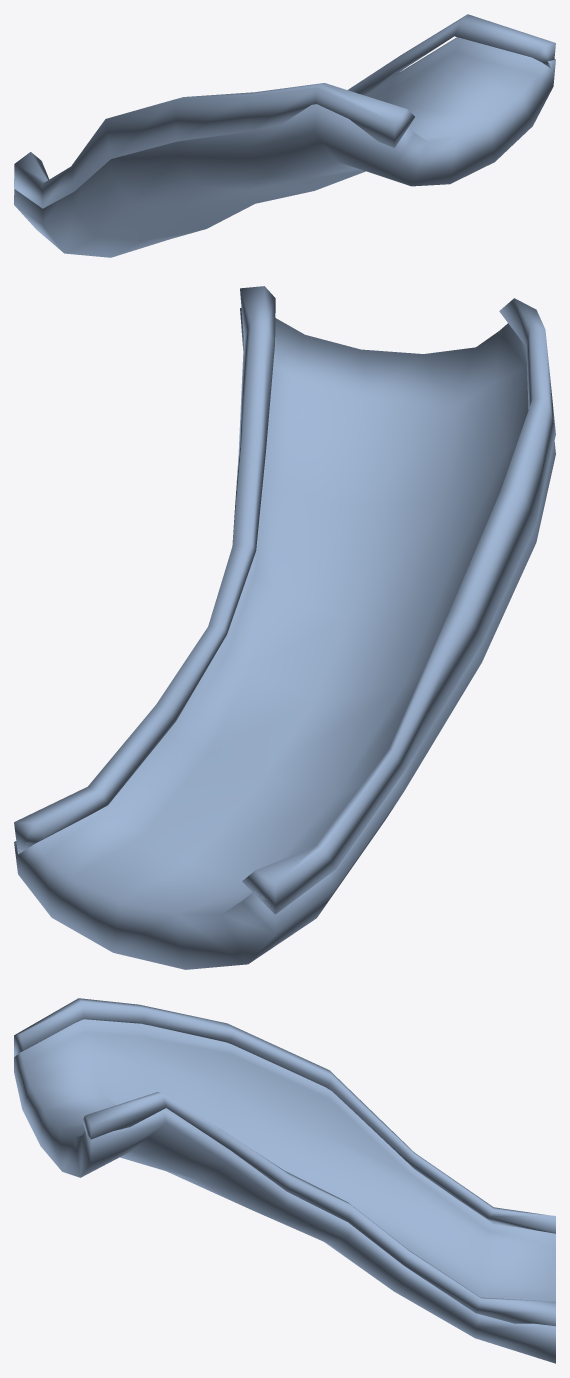
The model's file is junRoadShortSlope10_20.fbx.
3 renders of one model, top to bottom at view 1: azimuth 30°, elevation 25°; view 2: azimuth 150°, elevation 25°; view 3: azimuth 270°, elevation 25°, orthographic. The views are drawn at different scales.
Visible parts, largest first — view 1: roadShortSlope10_20_LOD0, roadShortSlope10_20_edge_LOD0; view 2: roadShortSlope10_20_LOD0, roadShortSlope10_20_edge_LOD0; view 3: roadShortSlope10_20_LOD0, roadShortSlope10_20_edge_LOD0.
Part boxes in pixels (<box>): roadShortSlope10_20_LOD0: <box>14,37,555,257</box>; roadShortSlope10_20_edge_LOD0: <box>14,14,555,208</box>; roadShortSlope10_20_LOD0: <box>14,308,555,969</box>; roadShortSlope10_20_edge_LOD0: <box>14,286,555,914</box>; roadShortSlope10_20_LOD0: <box>14,1019,555,1363</box>; roadShortSlope10_20_edge_LOD0: <box>14,998,555,1326</box>.
Bounding box in the file's own units: 1444 × 1492 × 2315.
